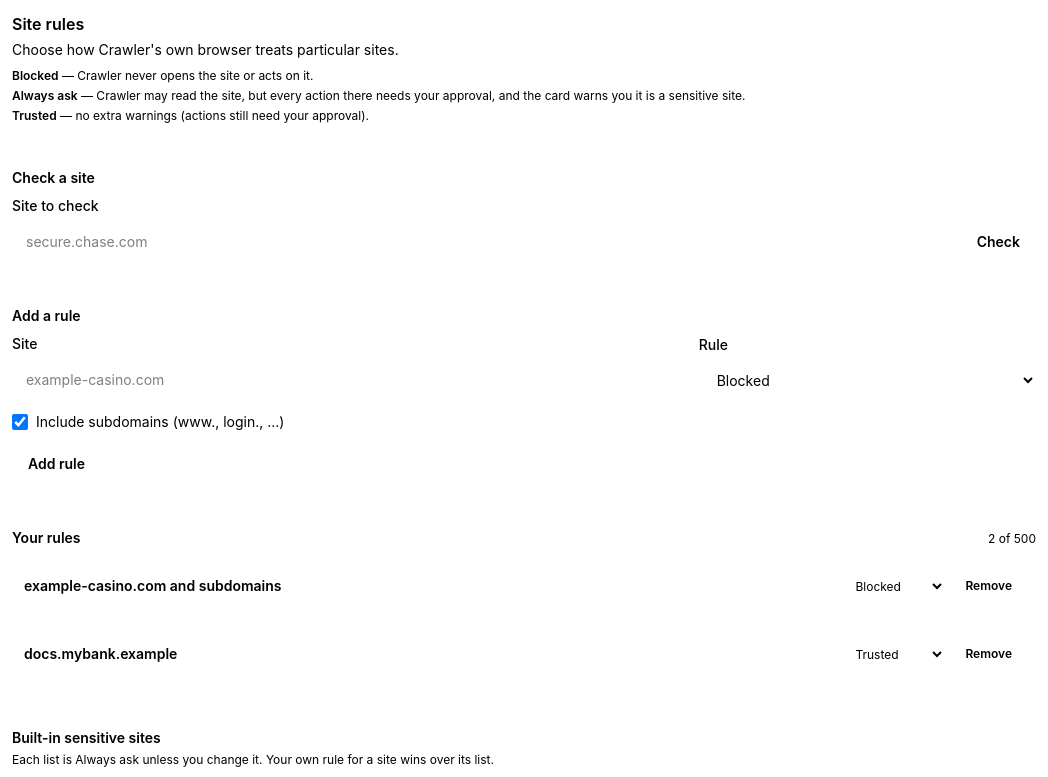
SiteRulesTab › changing a row's kind patches only that row; a failed patch puts the old kind back and shows why
Expected: the element "Your rules" is shown, top-left (12, 508), bottom-right (1036, 684)
Select "Always ask" in the dropdown named "Rule for docs.mybank.example" at point(893, 654), box top-left (841, 640), bottom-right (945, 668)
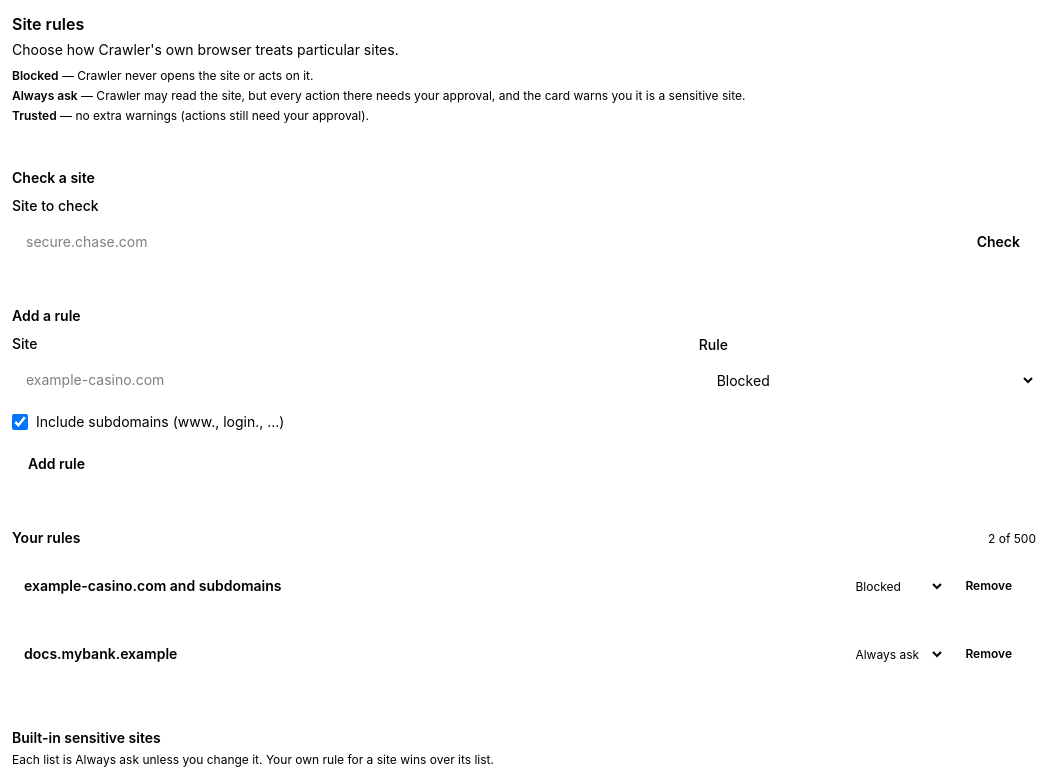
Select "Trusted" in the dropdown named "Rule for example-casino.com and subdomains" at point(893, 586), box top-left (841, 572), bottom-right (945, 600)
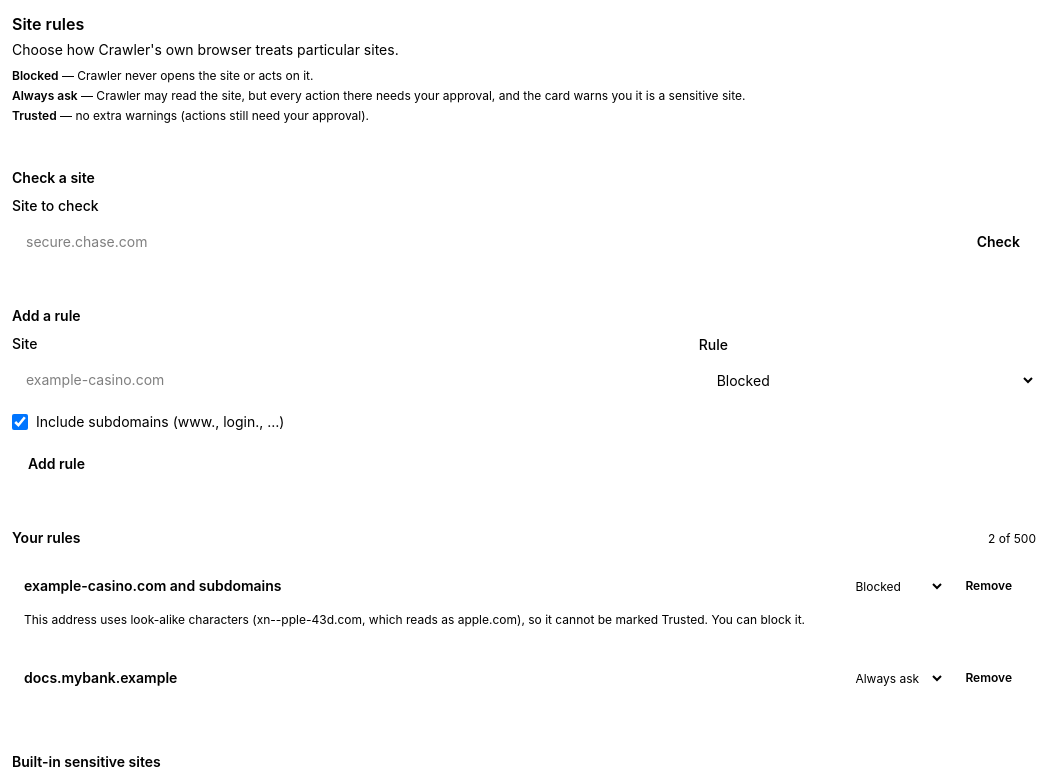
Result: the message shows "This address uses look-alike characters (xn--pple-43d.com, which reads as apple.com), so it cannot be marked Trusted. You can block it." at top-left (24, 612), bottom-right (805, 627)
